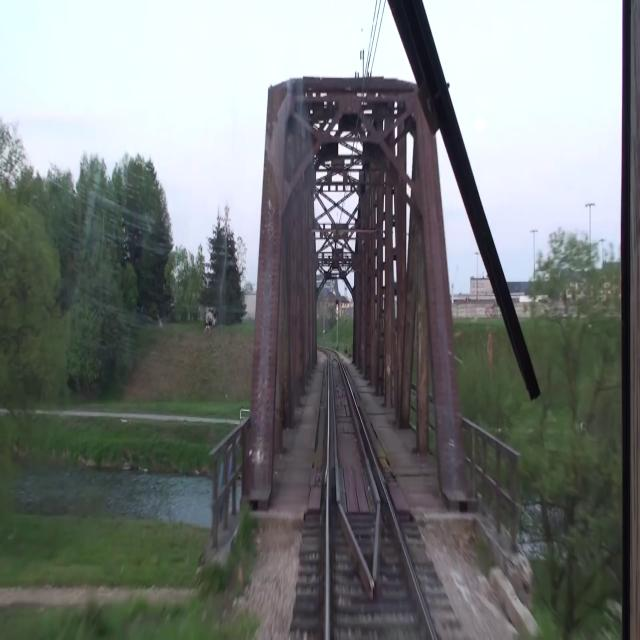rail-track: (330, 411, 431, 639), (332, 360, 375, 565)
